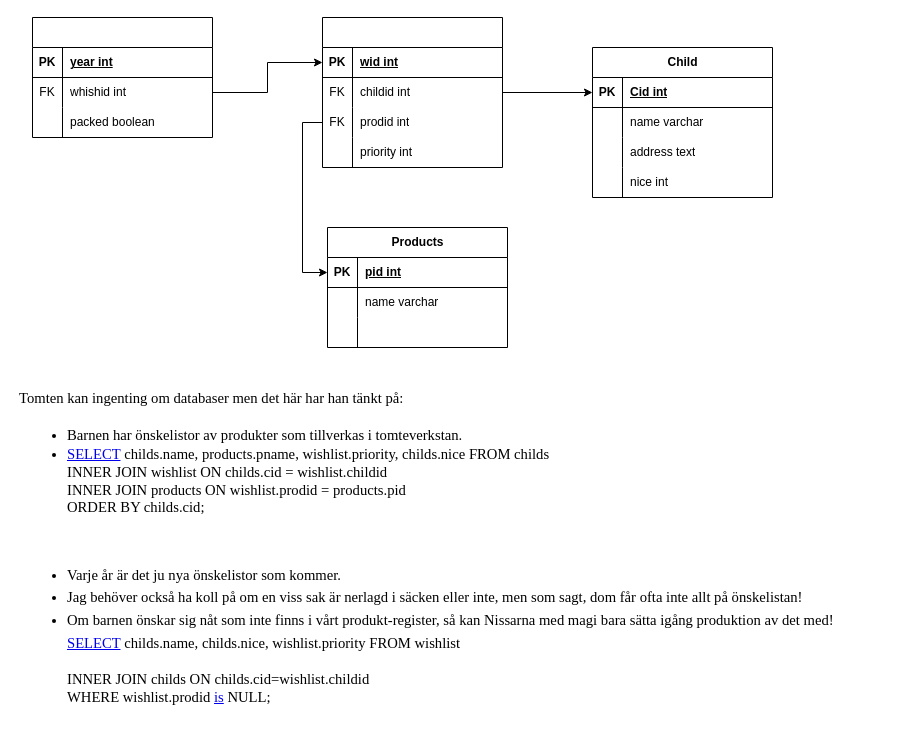
The diagram is 909 pixels wide and 755 high, and some of its shapes have lost their labels. The shapes that lost their labels are listed below. From the top down, each one's box as (x1, y1, x2, y2) in pixels, then its label:
(32, 16, 212, 138): Santas bag
(322, 16, 502, 168): Wishlists
